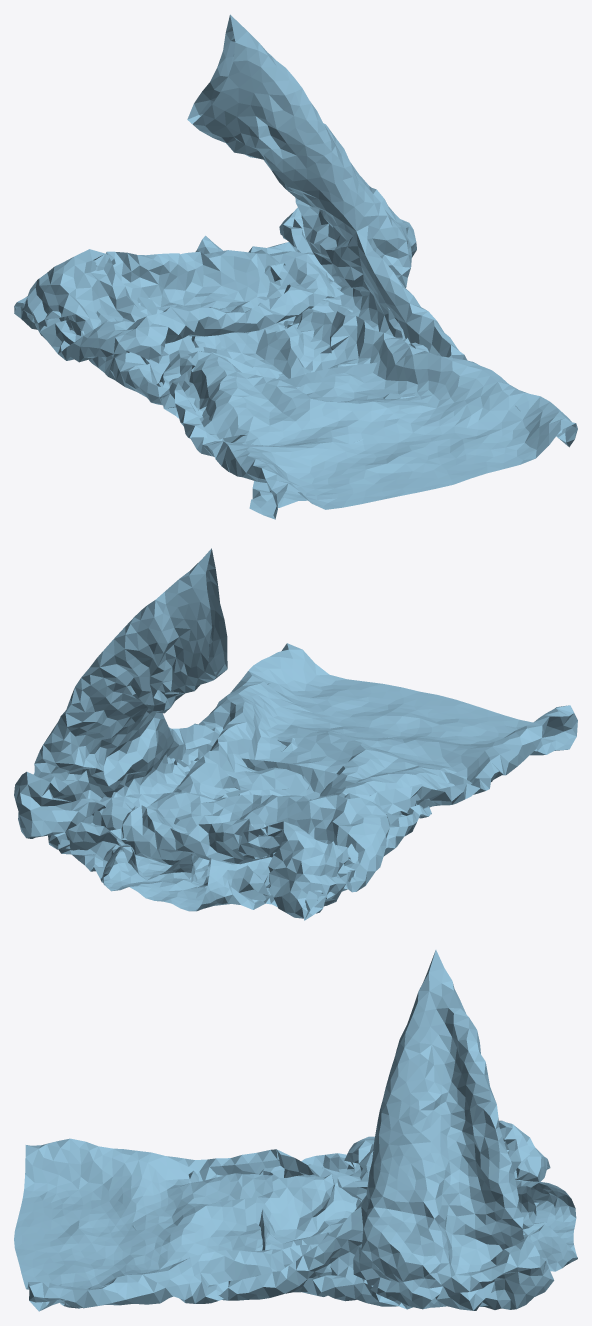
File: frame_13.glb
3 renders of one model, top to bottom at view 1: azimuth 30°, elevation 25°; view 2: azimuth 150°, elevation 25°; view 3: azimuth 270°, elevation 25°, orthographic. The views are drawn at different scales.
Parts seen in each view (by area): view 1: frame_13.obj; view 2: frame_13.obj; view 3: frame_13.obj.
Boxes of the visible parts, x1,y1,x2,y2 form: frame_13.obj: (14,14,577,519); frame_13.obj: (14,548,577,920); frame_13.obj: (14,950,577,1311).
Size of the model in its own units: 0.9843 by 0.8488 by 1.43.
